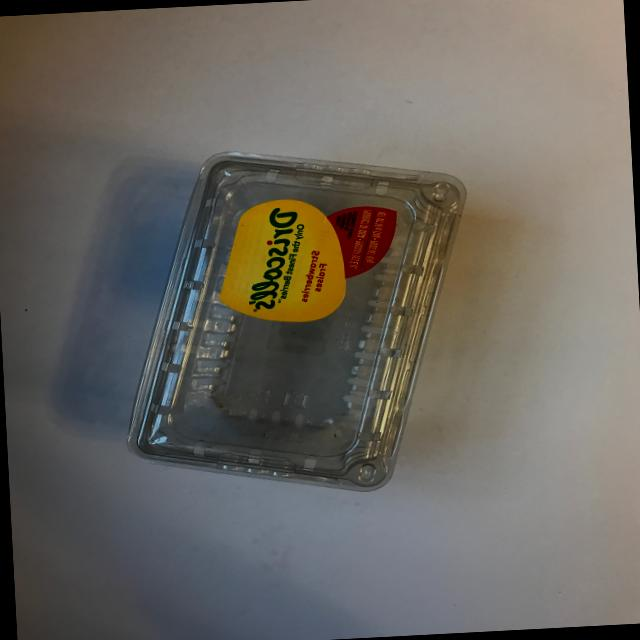Plastic: (58, 128, 501, 516)
